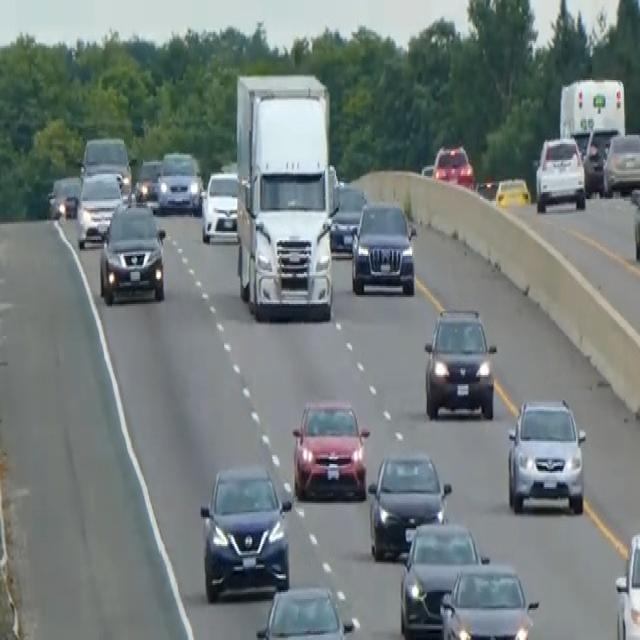car: (199, 462, 292, 601), (398, 519, 488, 638), (506, 394, 586, 516), (367, 450, 451, 558), (422, 304, 497, 420), (291, 395, 370, 501), (439, 560, 539, 638), (98, 199, 166, 304), (350, 197, 417, 295), (255, 582, 353, 638), (534, 134, 586, 212), (75, 169, 124, 247), (79, 134, 132, 196), (157, 149, 202, 215), (200, 169, 238, 243), (329, 180, 366, 256), (614, 530, 639, 638), (583, 124, 620, 194), (602, 132, 639, 196), (432, 142, 475, 188), (46, 172, 80, 220), (133, 156, 161, 210), (494, 176, 531, 208)
lorry: (234, 69, 339, 322)
